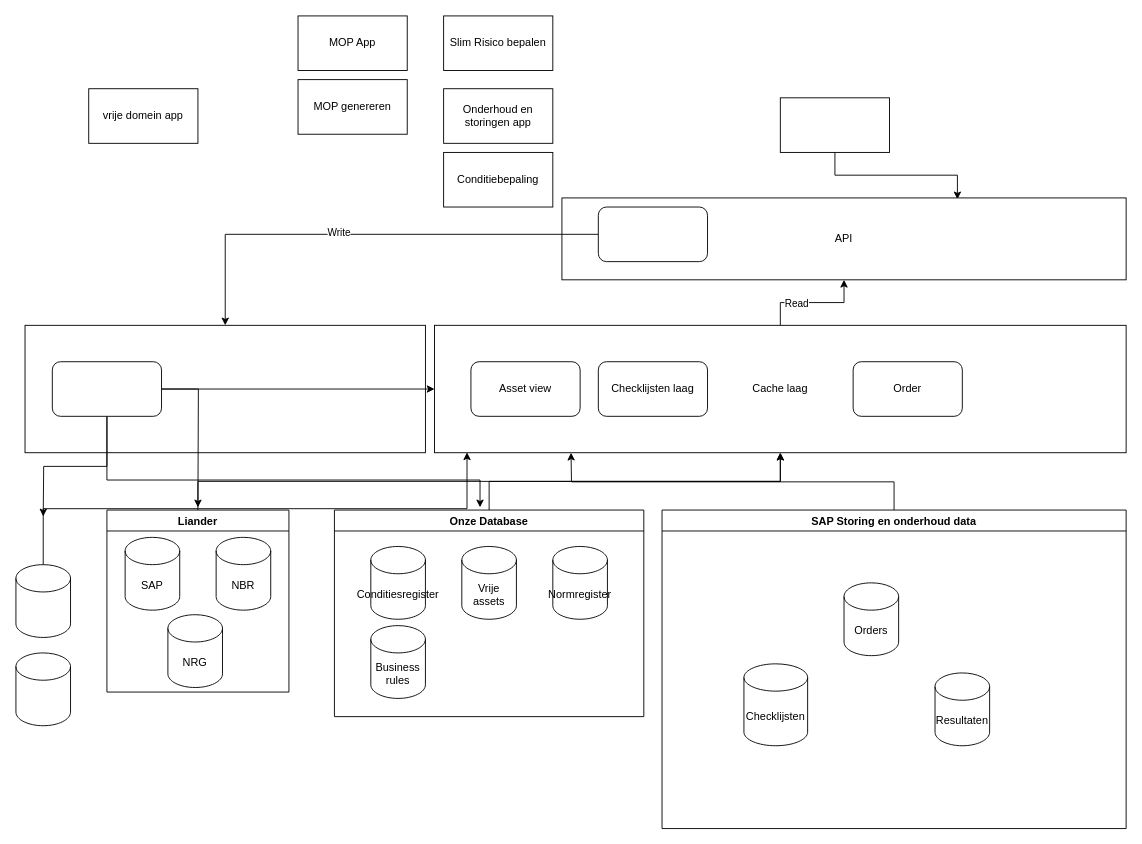
This 1142x844 diagram has some shape labels left out. The shapes that lost their labels are listed below. From the top down, each one's centre as x and y in pixels, then its label:
At (x=834, y=124): "Veldwerker".
At (x=652, y=234): "Asset endpoint".
At (x=106, y=388): "Asset microservice".
At (x=43, y=600): "TenneT".
At (x=43, y=689): "TMS".
